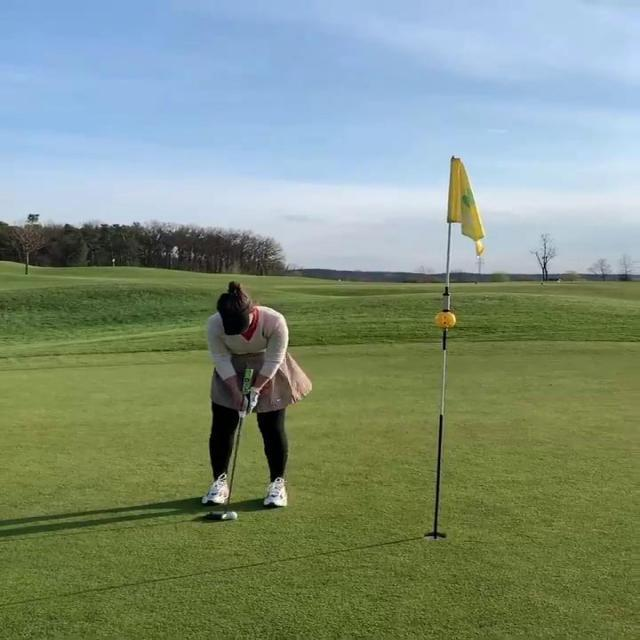ClubHead: (206, 510, 227, 520)
GolfBall: (228, 512, 238, 520)
